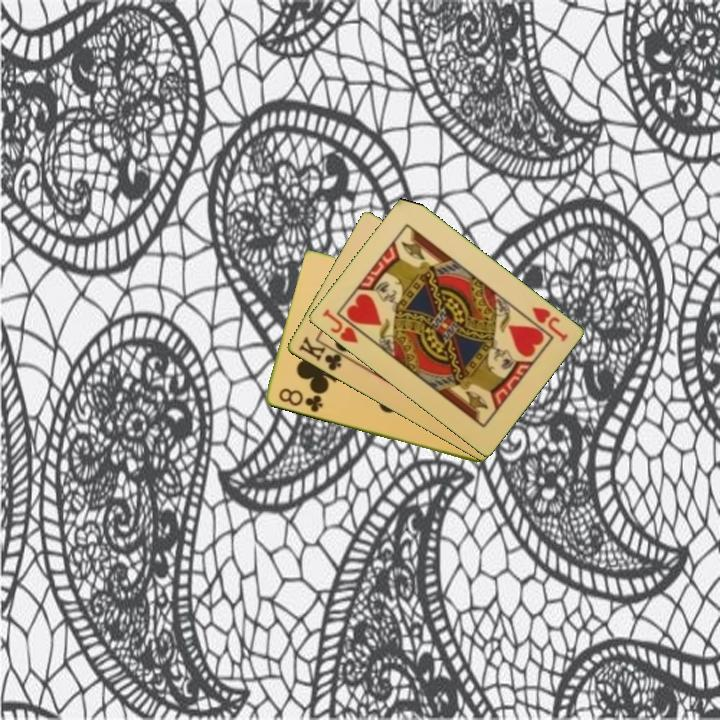8c: (275, 385, 326, 416)
Jh: (319, 305, 370, 346), (528, 303, 570, 345)
Kc: (295, 333, 350, 374)
